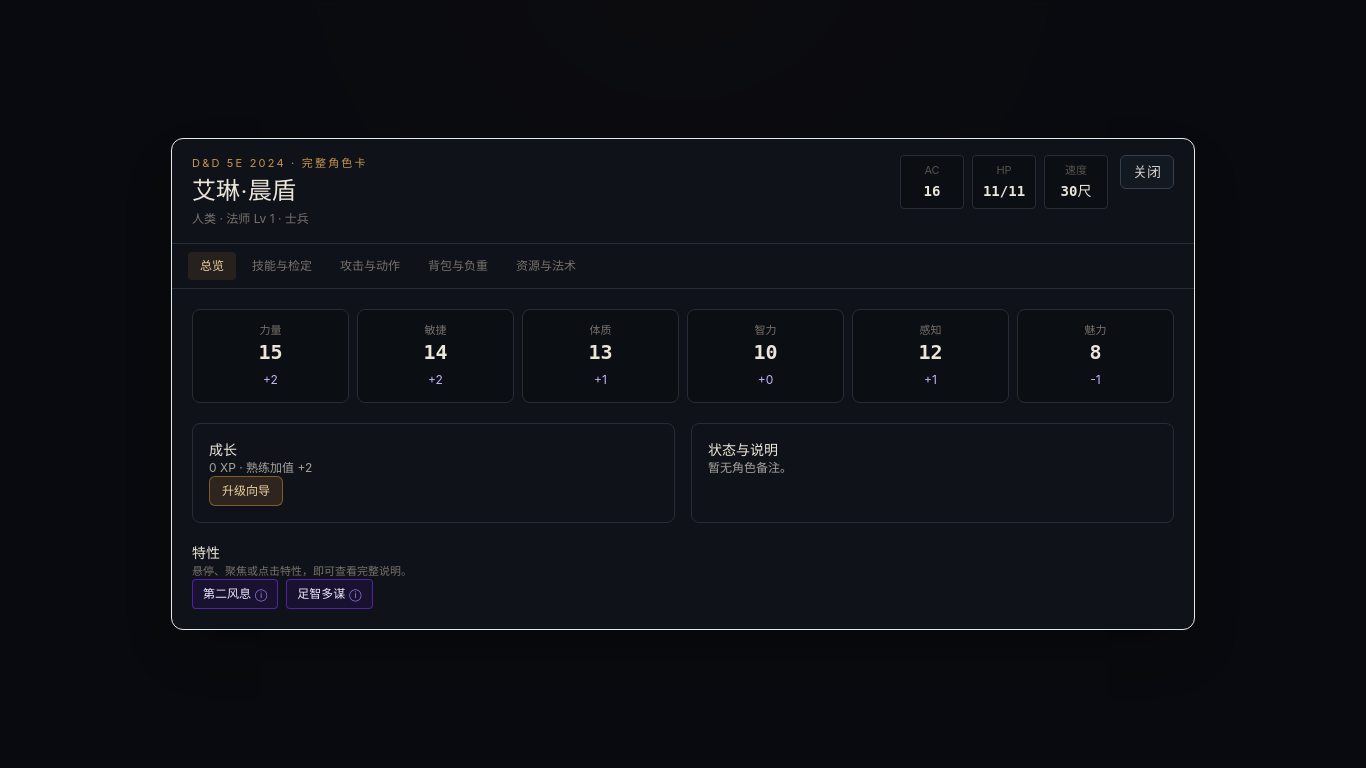
Test case: CharacterSheetDetail › explains an empty spellbook instead of hiding the spell section
This screenshot has width=1366, height=768.
Click the button "资源与法术": {"x": 546, "y": 266} [504,252,588,280]
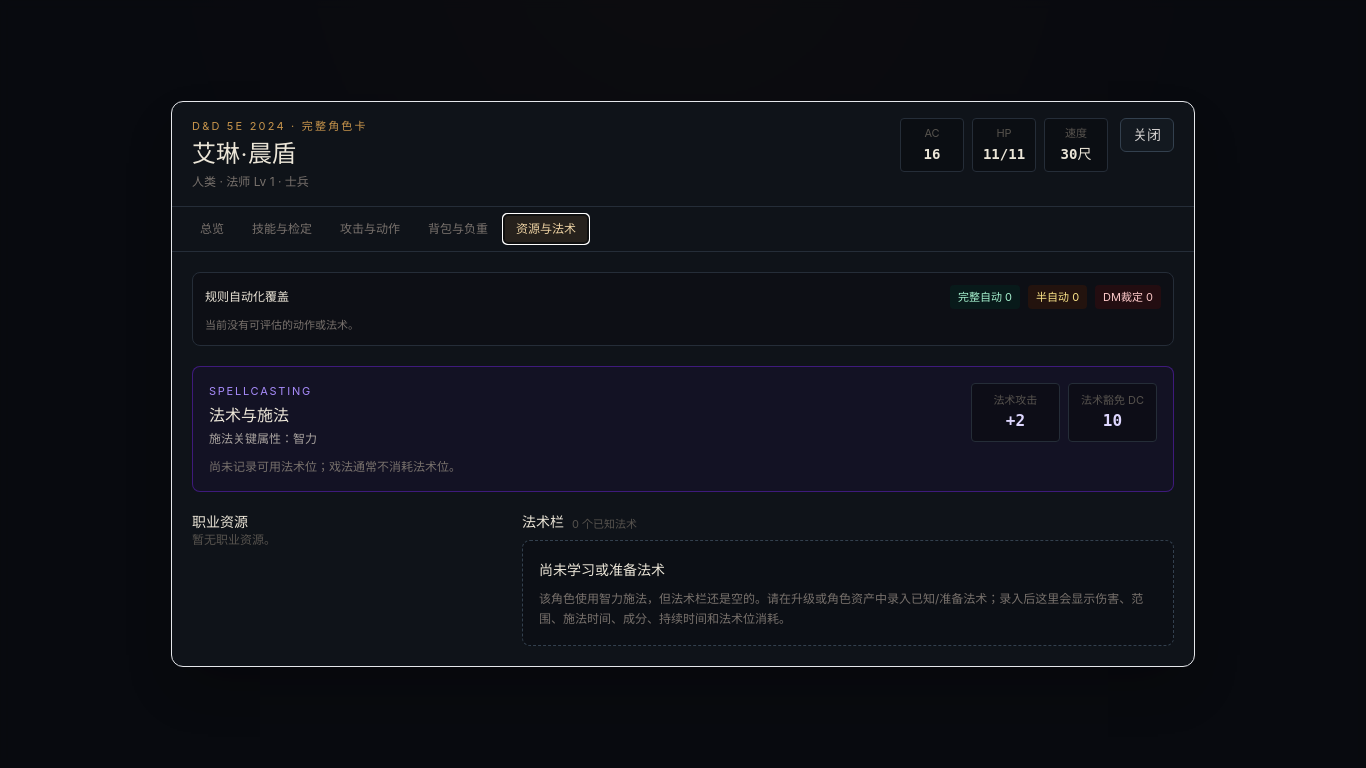
Result: the element named "角色法术栏" is shown at [522,512,1174,646]
Result: the text "尚未学习或准备法术" is shown at [539,561,665,578]
Result: the text "法术栏还是空的" is shown at [539,591,1143,626]
